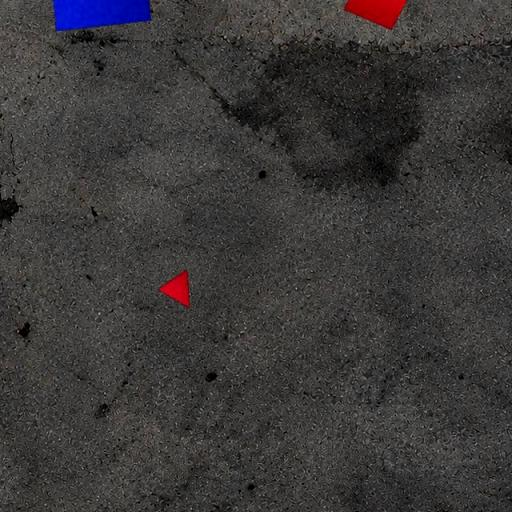RED_SQUARE: (342, 0, 414, 31)
